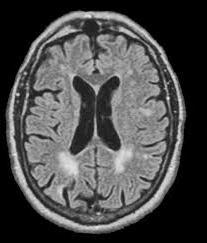Normal_Brain: (5, 1, 201, 243)
